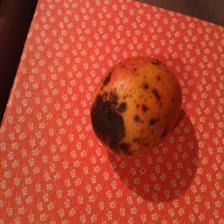Mango Semirotten: (87, 48, 186, 153)
